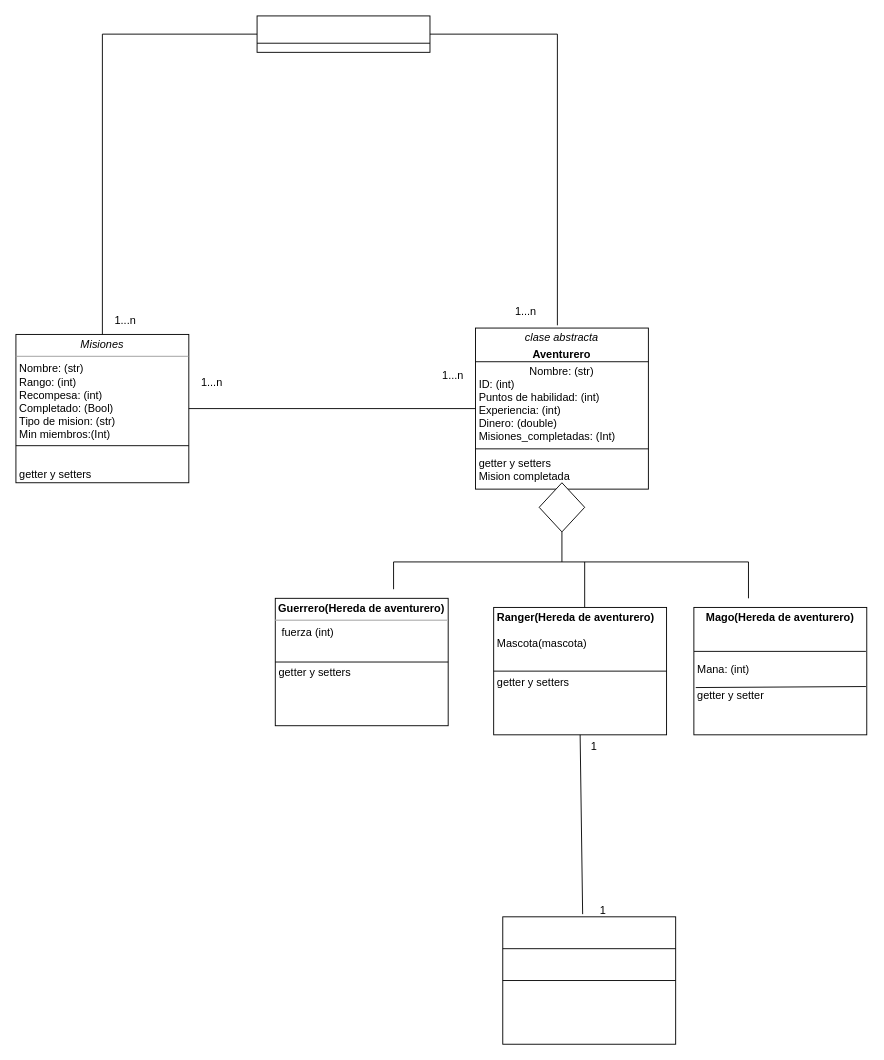
This 884x1060 diagram has some shape labels left out. The centre of each missing label's shape, as x and y in pixels:
"Gremio" goes at [343,33].
"Mascota Nombre:(str) Puntos de habilidad:(int) getter y setters" goes at [589,980].
